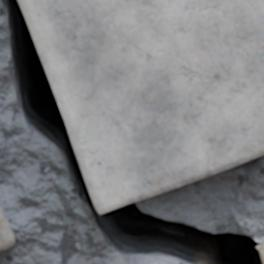brick: (19, 0, 263, 212), (0, 203, 14, 250)
broken_brick: (258, 241, 263, 259)
crack: (1, 0, 263, 263)
